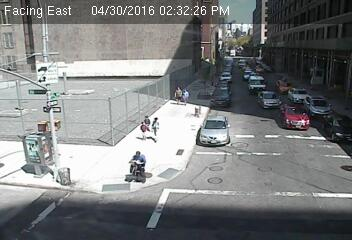neg: (150, 11, 189, 63), (38, 158, 64, 193), (27, 56, 53, 90), (30, 96, 53, 127), (70, 73, 93, 103), (124, 71, 143, 96), (27, 20, 42, 41), (13, 134, 28, 154), (100, 39, 115, 59), (25, 115, 38, 132)
pos: (122, 146, 150, 183), (146, 115, 165, 142), (133, 118, 150, 140), (181, 88, 194, 106), (168, 85, 180, 102)
